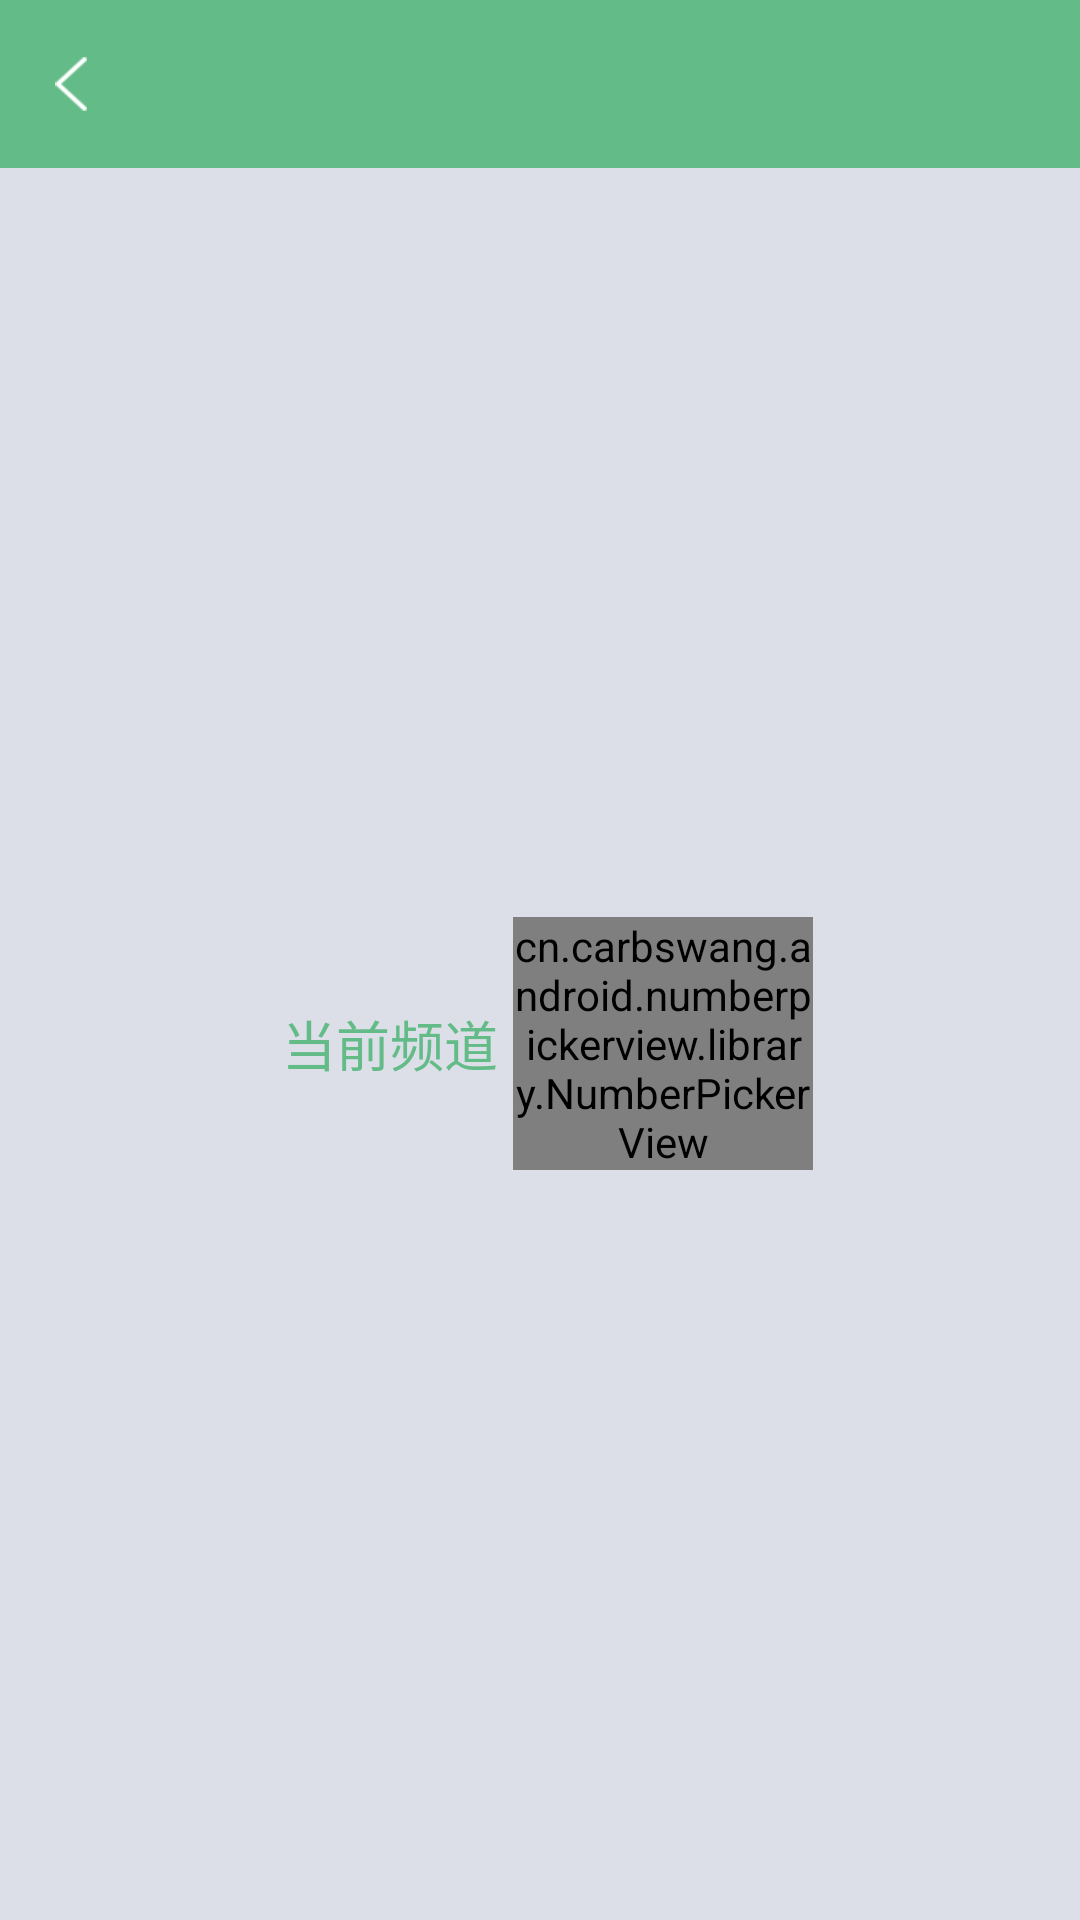

Where icons sit on this 1080x1920 app screen, as region(x1, y1, x2, y2):
back: region(55, 57, 87, 111)
